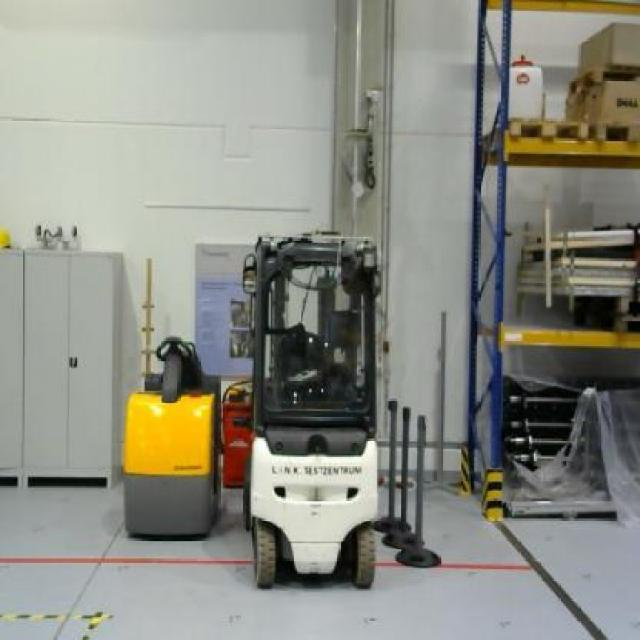box: (562, 78, 640, 124), (574, 22, 640, 70)
